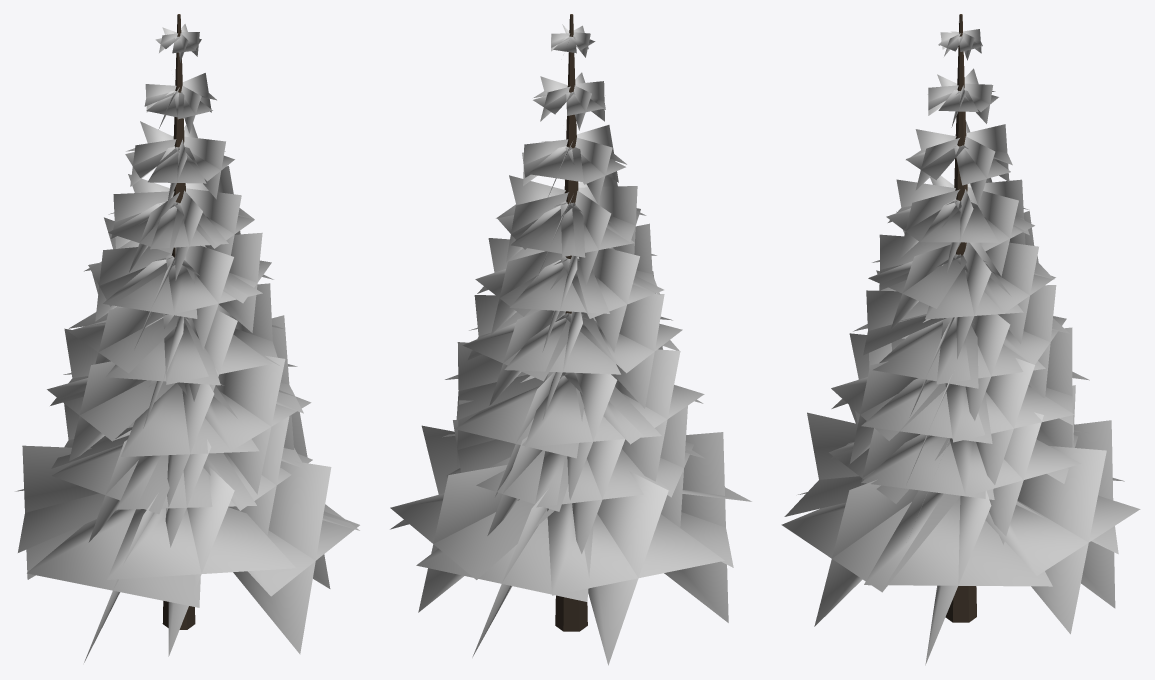
File: field_pine.glb
3 renders of one model, left to right at view 1: azimuth 30°, elevation 25°; view 2: azimuth 150°, elevation 25°; view 3: azimuth 270°, elevation 25°, orthographic.
Parts seen in each view (by area): view 1: field_pine; view 2: field_pine; view 3: field_pine.
Part boxes in pixels (x1,y1,x2,y2): field_pine: (15,14,359,662); field_pine: (390,14,751,665); field_pine: (781,14,1140,665).
Bounding box in the file's own units: 6.39 × 12.4 × 6.7.
Materials: 2 (1 with a texture image).
